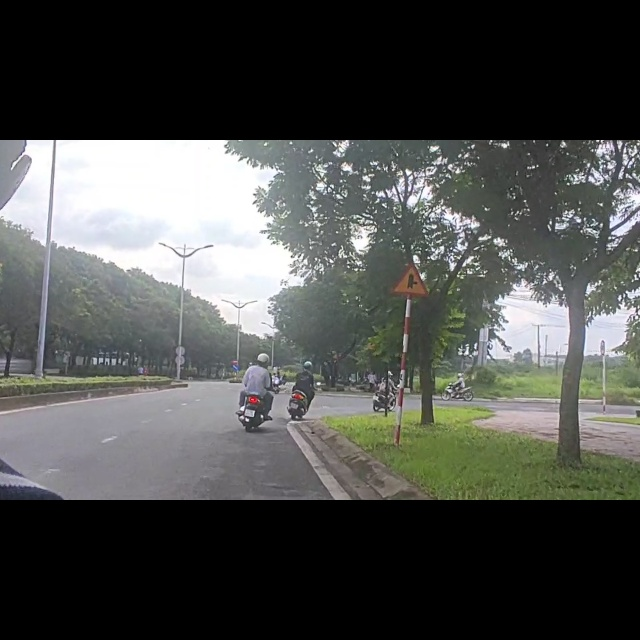Giao nhau với đường không ưu tiên: (389, 261, 429, 299)
